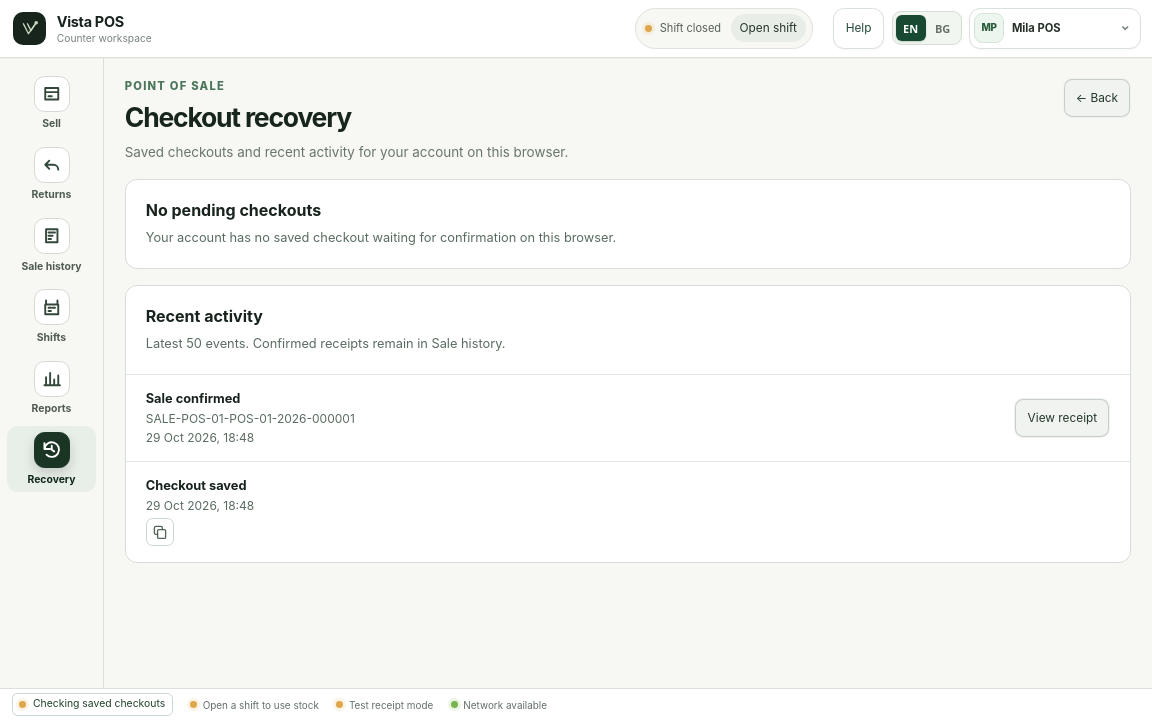
it: POS application › opens a confirmed receipt from recovery history without posting another sale
Click the button "View receipt" at (1062, 418), box [1014,398,1110,438]
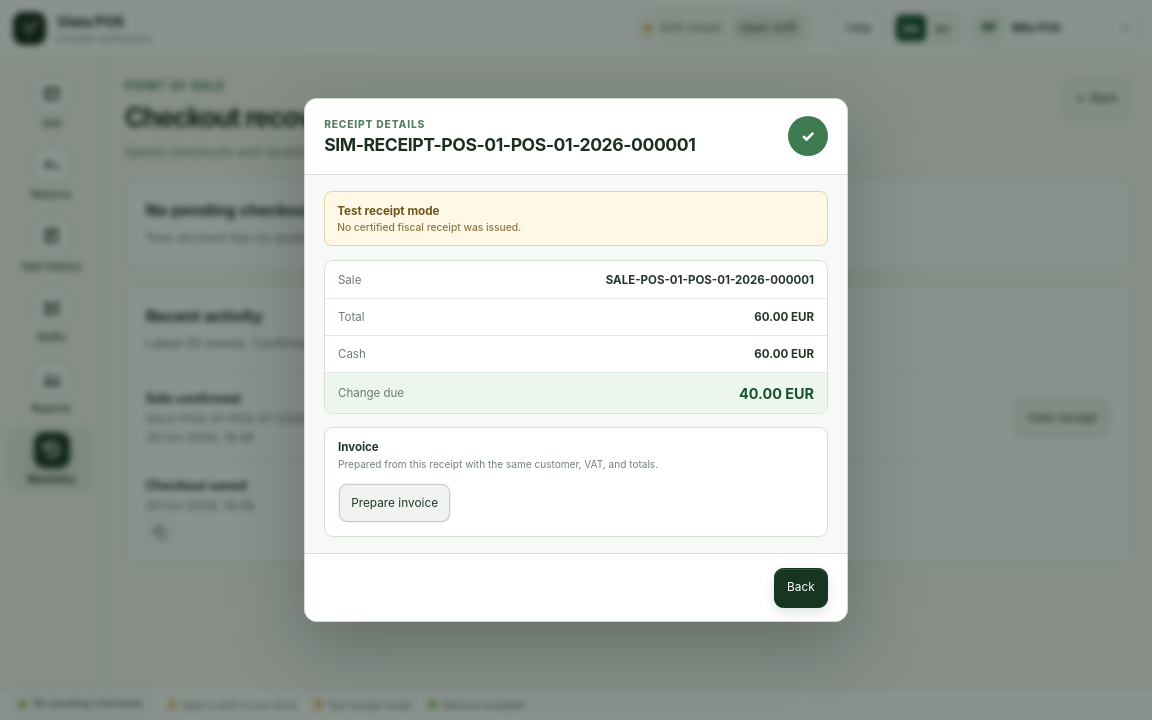
Now the heading "SIM-RECEIPT-POS-01-POS-01-2026-000001" is shown, box [324,134,695,155]
